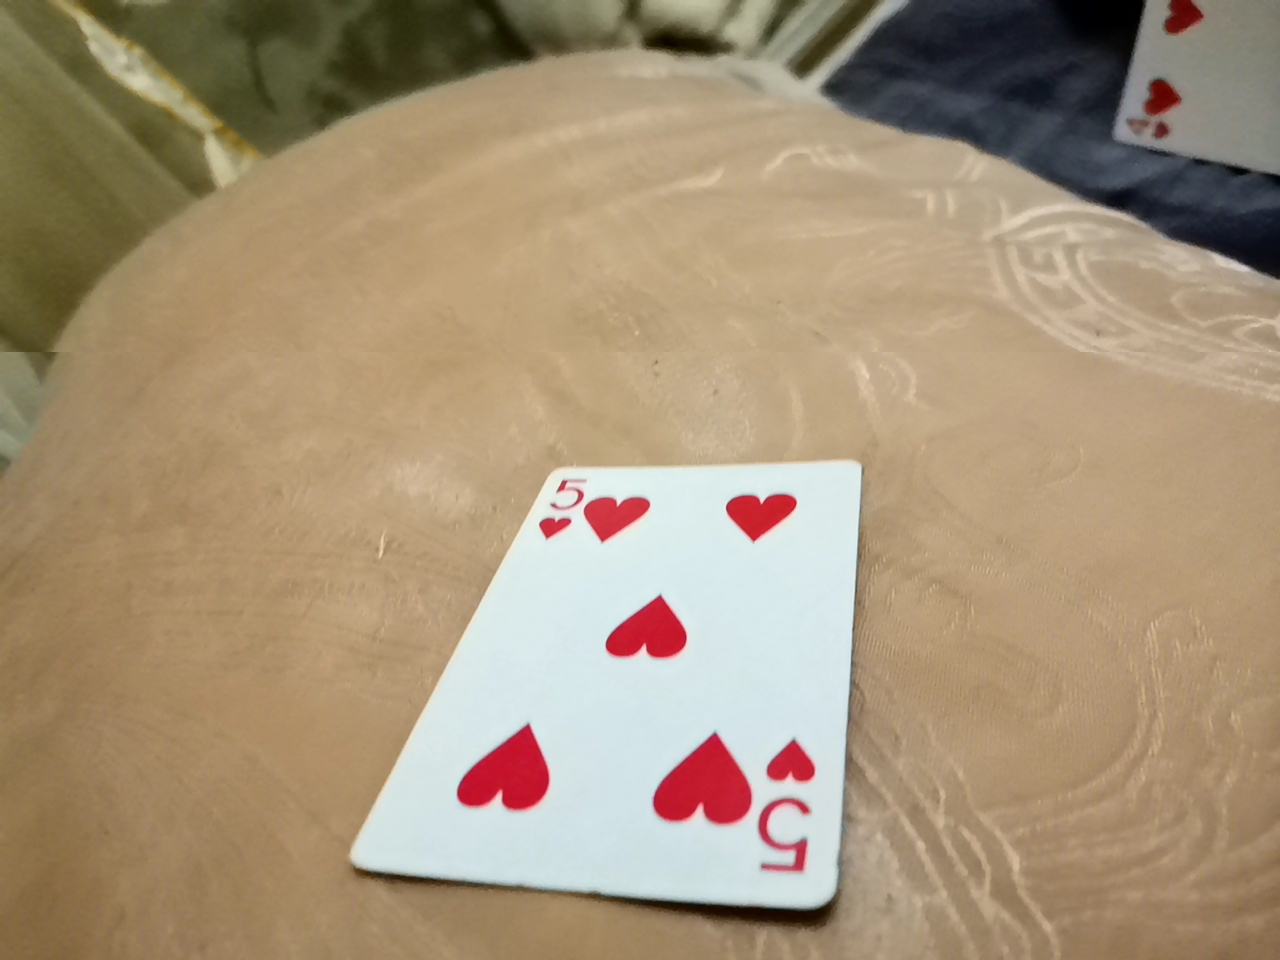hx 5: (337, 489, 863, 946)
